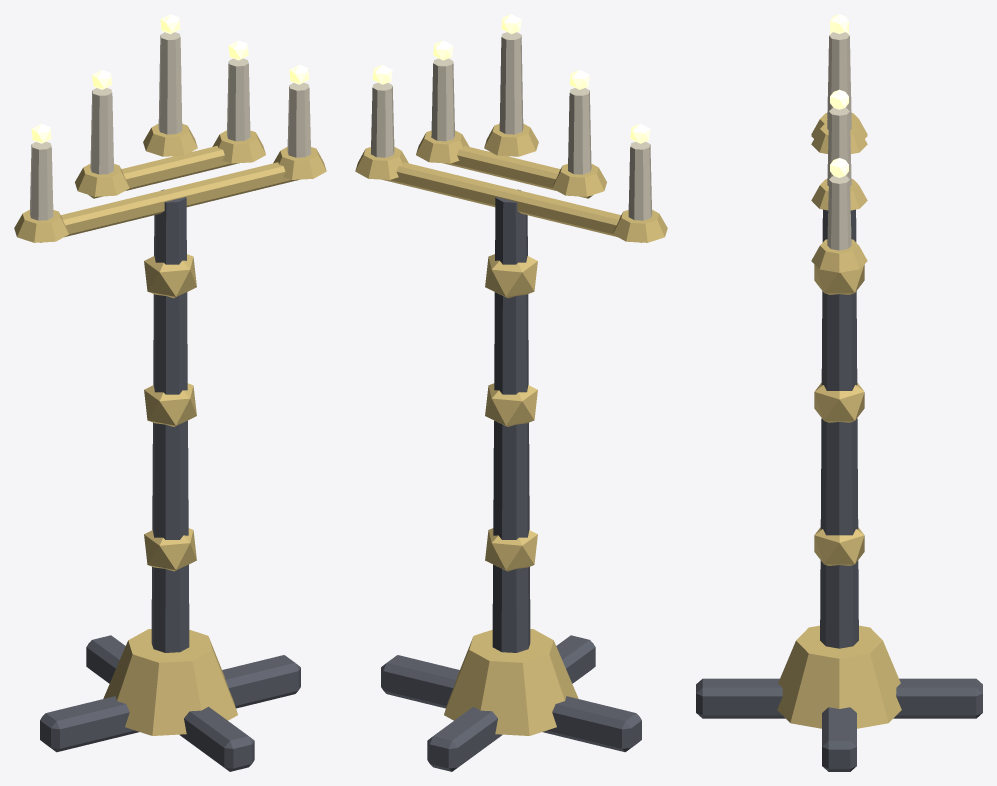
File: castle_candelabra.glb
3 renders of one model, left to right at view 1: azimuth 30°, elevation 25°; view 2: azimuth 150°, elevation 25°; view 3: azimuth 270°, elevation 25°, orthographic.
Visible parts, largest first — view 1: Castle_Candelabra; view 2: Castle_Candelabra; view 3: Castle_Candelabra.
Boxes of the visible parts, box(x1,y1,x2,y2) form: Castle_Candelabra: box(14, 14, 326, 771); Castle_Candelabra: box(355, 14, 667, 771); Castle_Candelabra: box(696, 14, 982, 771).
Size of the model in its own units: 1.05 by 2.31 by 0.858.
